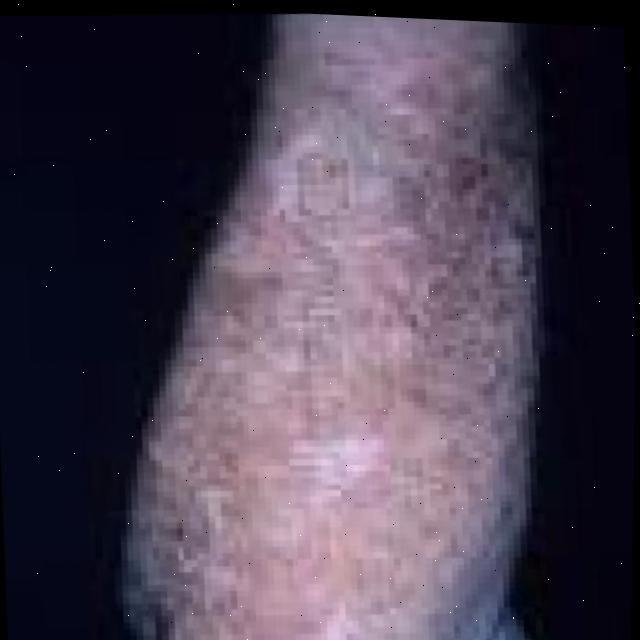Melasma: (119, 58, 531, 640)
